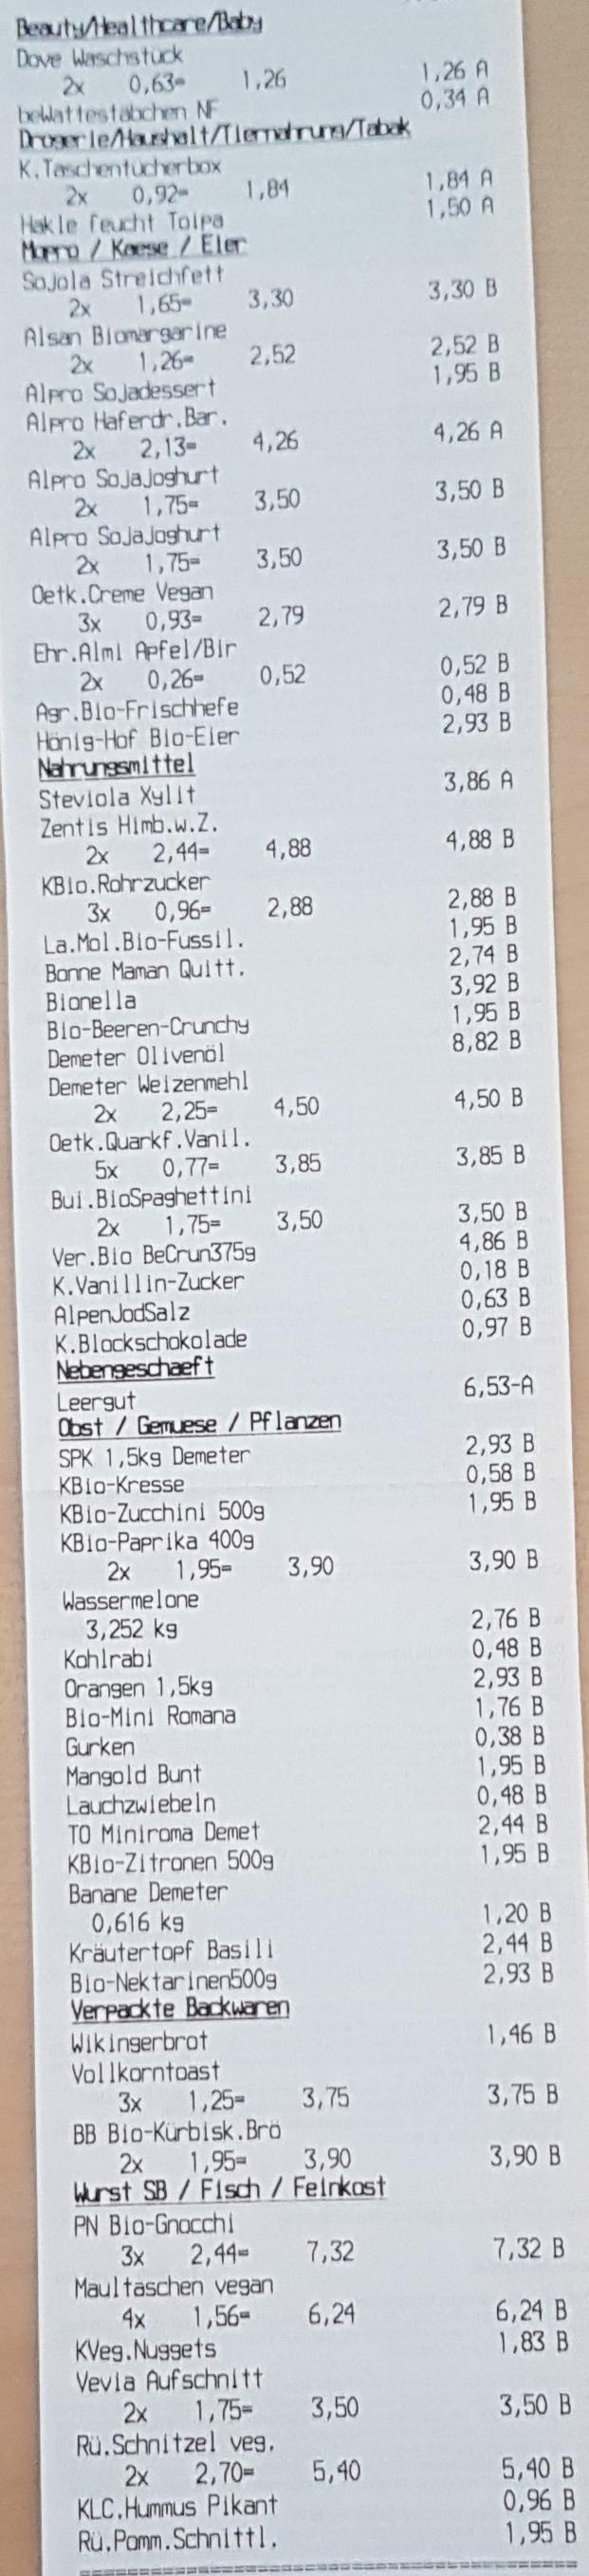Product: (20, 312, 232, 352), (43, 920, 245, 961), (20, 260, 230, 299), (21, 398, 219, 439), (26, 634, 243, 669), (49, 1063, 252, 1099), (21, 373, 220, 409), (23, 460, 222, 496), (58, 1493, 273, 1526), (63, 1934, 278, 1966), (48, 1240, 262, 1273), (31, 808, 224, 844), (33, 695, 243, 728), (72, 2491, 283, 2523), (58, 1441, 255, 1475), (39, 1012, 257, 1043), (28, 517, 224, 552), (41, 953, 245, 986), (39, 1037, 232, 1071), (41, 866, 222, 902), (71, 2361, 268, 2394), (31, 723, 239, 754), (59, 1523, 263, 1554), (48, 1127, 250, 1158), (51, 1181, 253, 1212), (33, 777, 197, 815), (15, 153, 234, 181), (59, 1848, 276, 1876), (67, 2328, 220, 2367), (69, 2525, 285, 2553), (51, 1268, 240, 1299), (69, 2119, 290, 2146), (15, 212, 234, 238), (61, 1819, 265, 1847), (76, 2428, 280, 2456), (67, 1966, 283, 1993), (61, 1702, 240, 1733), (54, 1329, 252, 1357), (33, 582, 219, 609), (71, 2275, 278, 2298), (12, 100, 229, 122), (61, 1794, 222, 1822), (63, 1674, 219, 1702), (61, 1881, 237, 1906), (71, 2211, 245, 2236), (15, 44, 191, 67), (71, 2027, 214, 2055), (64, 1763, 206, 1791), (71, 2062, 230, 2086), (59, 1587, 207, 1613), (51, 1303, 197, 1329), (58, 1472, 189, 1500), (41, 982, 141, 1015), (61, 1644, 160, 1674), (61, 1736, 140, 1763)
